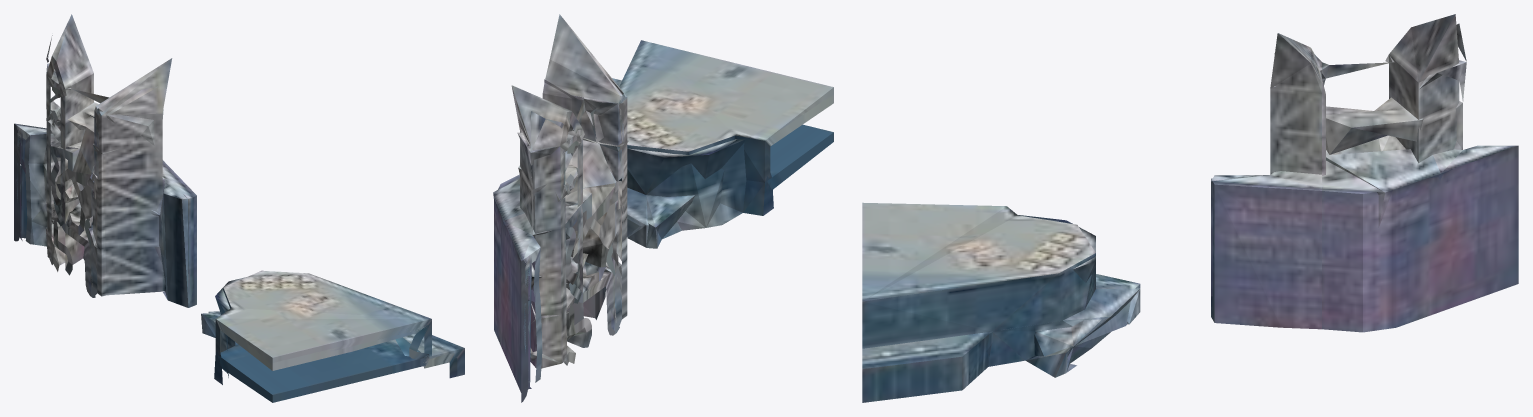
The model's file is chunk_-2_0.glb.
The picture shows the model from 3 angles, left to right: view 1: azimuth 30°, elevation 25°; view 2: azimuth 150°, elevation 25°; view 3: azimuth 270°, elevation 25°; orthographic projection. The views are drawn at different scales.
Visible parts, largest first — view 1: hero-chunk; view 2: hero-chunk; view 3: hero-chunk.
Part boxes in pixels (x1,y1,x2,y2): hero-chunk: (14, 14, 464, 402); hero-chunk: (493, 14, 833, 402); hero-chunk: (862, 14, 1518, 402).
Size of the model in its own units: 24.32 by 27.51 by 54.47.
Materials: 1 (1 with a texture image).
